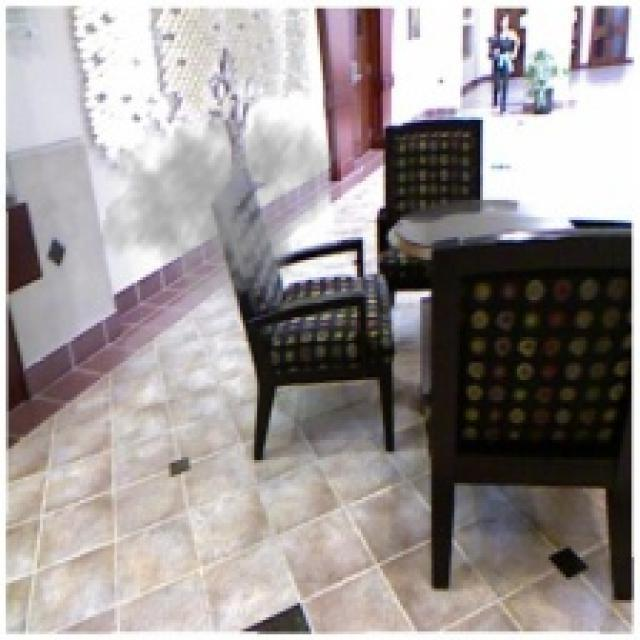Smoke: (97, 88, 337, 312)
